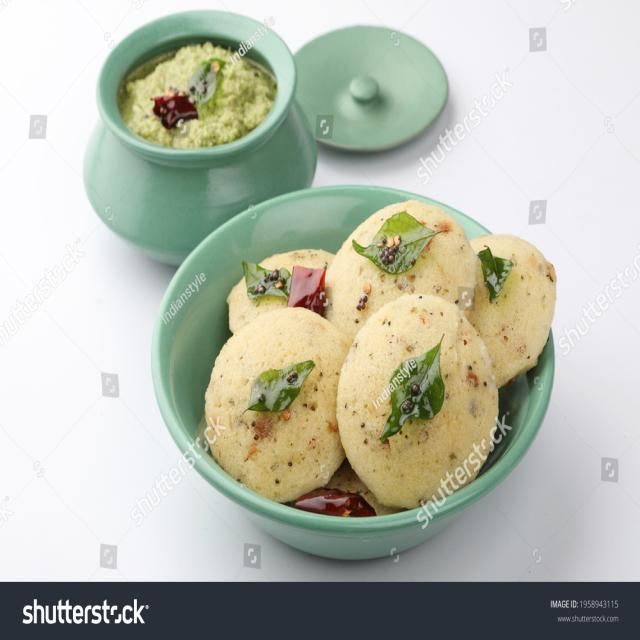IDLI: (337, 294, 497, 507), (205, 308, 349, 502), (325, 199, 477, 339), (469, 235, 556, 388)
